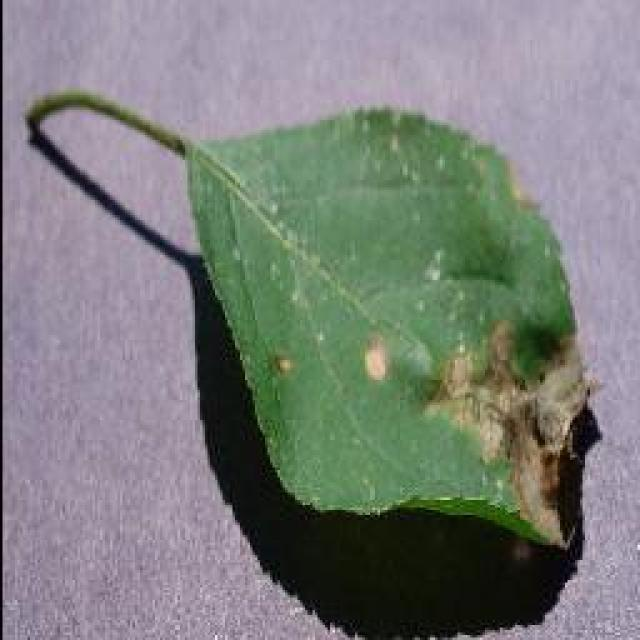Black_rot: (25, 85, 593, 553)
